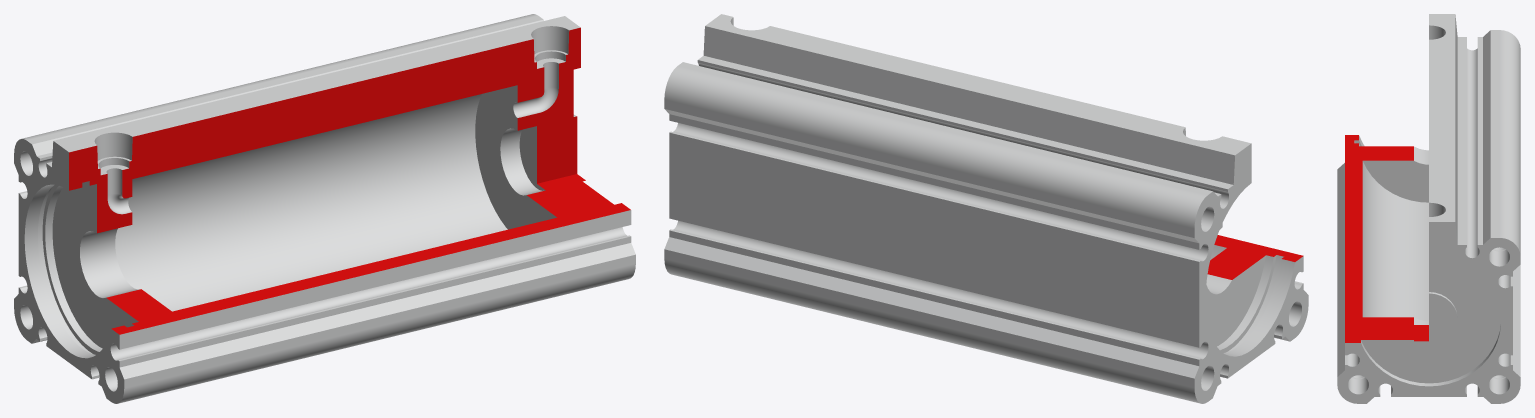
File: SECTIONED_TUBE.glb
3 views of the same model, side by side, from view 1: azimuth 30°, elevation 25°; view 2: azimuth 150°, elevation 25°; view 3: azimuth 270°, elevation 25° (orthographic). The views are drawn at different scales.
Parts seen in each view (by area): view 1: CDQ2L40-100DZ-M9P_CQ2Tube (×5); view 2: CDQ2L40-100DZ-M9P_CQ2Tube (×2); view 3: CDQ2L40-100DZ-M9P_CQ2Tube (×2).
Part boxes in pixels (x1,y1,x2,y2): CDQ2L40-100DZ-M9P_CQ2Tube (×5): [14, 14, 635, 403]; CDQ2L40-100DZ-M9P_CQ2Tube (×2): [664, 14, 1308, 403]; CDQ2L40-100DZ-M9P_CQ2Tube (×2): [1337, 14, 1520, 403].
Size of the model in its own units: 0.1395 by 0.057 by 0.052.
